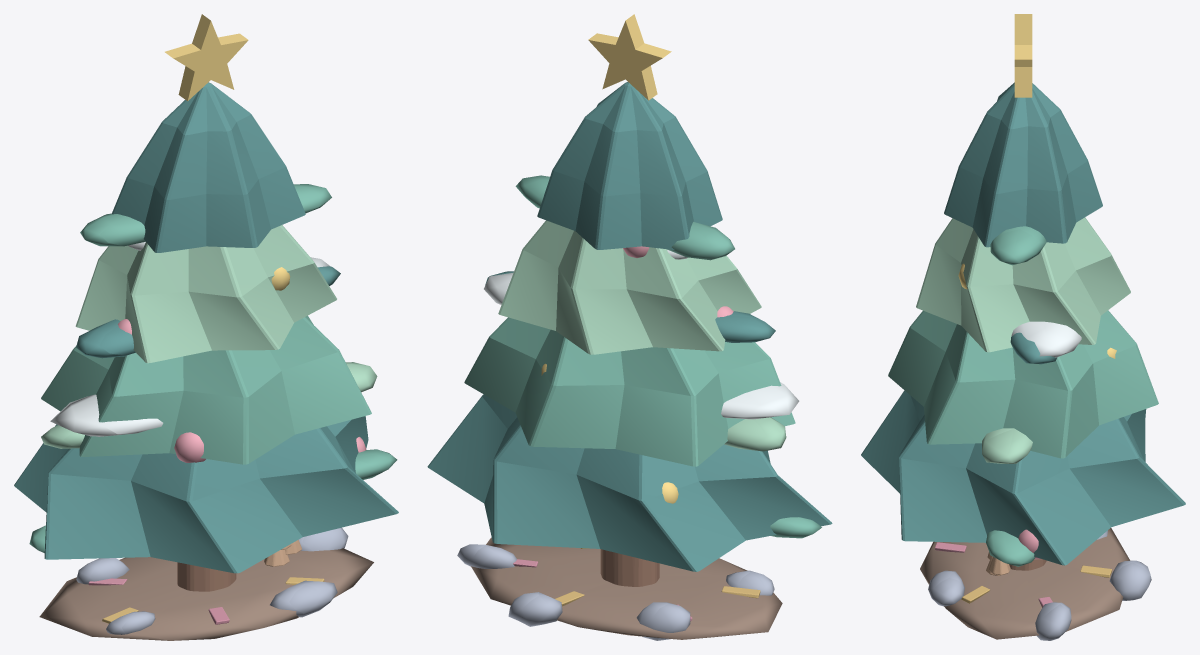
File: lagoon_tree_celebration_snow.glb
3 renders of one model, left to right at view 1: azimuth 30°, elevation 25°; view 2: azimuth 150°, elevation 25°; view 3: azimuth 270°, elevation 25°, orthographic. The views are drawn at different scales.
Visible parts, largest first — view 1: lagoon_tree_celebration_snow.001; view 2: lagoon_tree_celebration_snow.001; view 3: lagoon_tree_celebration_snow.001.
Part boxes in pixels (x1,y1,x2,y2): lagoon_tree_celebration_snow.001: (14, 14, 398, 640); lagoon_tree_celebration_snow.001: (427, 14, 832, 640); lagoon_tree_celebration_snow.001: (861, 14, 1185, 640).
Bounding box in the file's own units: 6.07 × 9.28 × 4.84.
